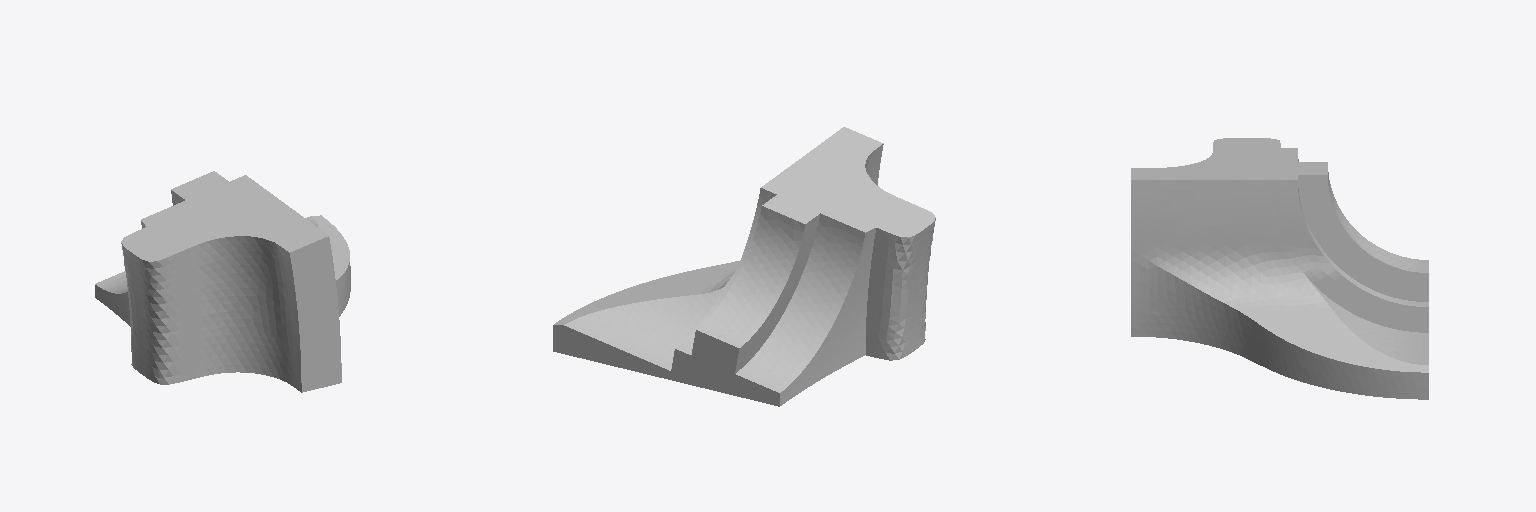
File: fandisk.obj
3 views of the same model, side by side, from view 1: azimuth 30°, elevation 25°; view 2: azimuth 150°, elevation 25°; view 3: azimuth 270°, elevation 25° (orthographic).
Size of the model in its own units: 1.69 by 0.8641 by 1.56.